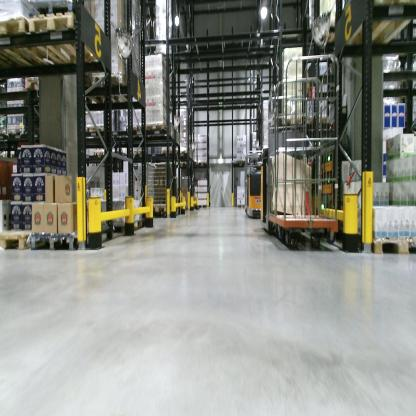pallet: (29, 13, 106, 68), (342, 2, 415, 51), (1, 17, 62, 75), (27, 225, 101, 257), (368, 224, 415, 259), (87, 72, 133, 105), (1, 221, 35, 251), (316, 22, 347, 50), (83, 128, 112, 157), (110, 216, 147, 237), (145, 119, 176, 139), (20, 75, 50, 93), (303, 114, 330, 127), (280, 113, 302, 127), (124, 124, 144, 137), (4, 124, 24, 134), (147, 206, 171, 214), (127, 149, 143, 158), (162, 145, 175, 155), (198, 159, 210, 168), (174, 146, 189, 153), (196, 203, 208, 211), (175, 159, 188, 165), (187, 160, 197, 167)
pallet_truck: (258, 146, 336, 252), (241, 149, 260, 226)
